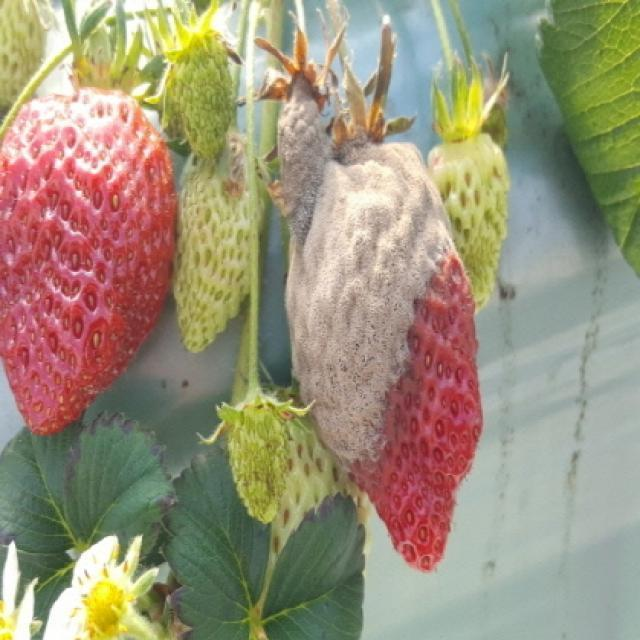Gray Mold: (283, 14, 475, 495), (239, 18, 361, 240)
